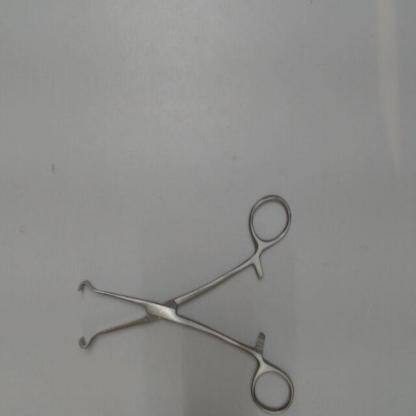Babcock Tissue Forceps: (69, 182, 302, 414)
